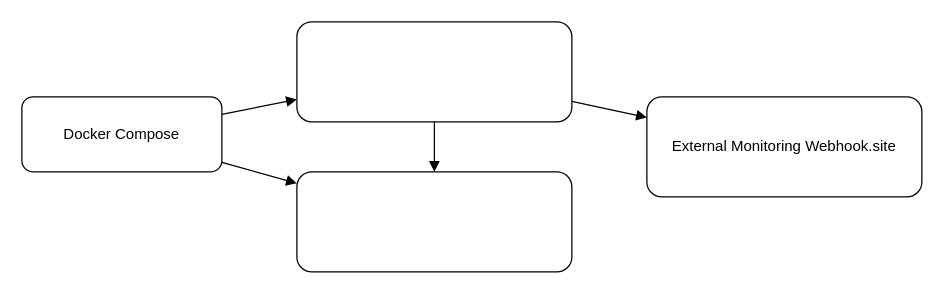
The diagram is 944 pixels wide and 294 high, and some of its shapes have lost their labels. Here are the shapes that lost their labels. From the top down, the centre of each, then its label:
At point (434, 71): "fraud-rule-engine Spring Boot Container".
At point (434, 221): "PostgreSQL / H2 Database Container".
